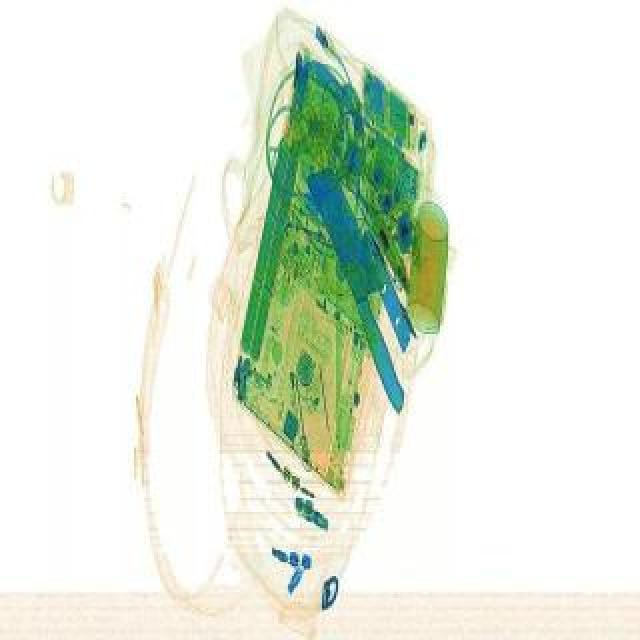knife: (304, 164, 424, 412)
